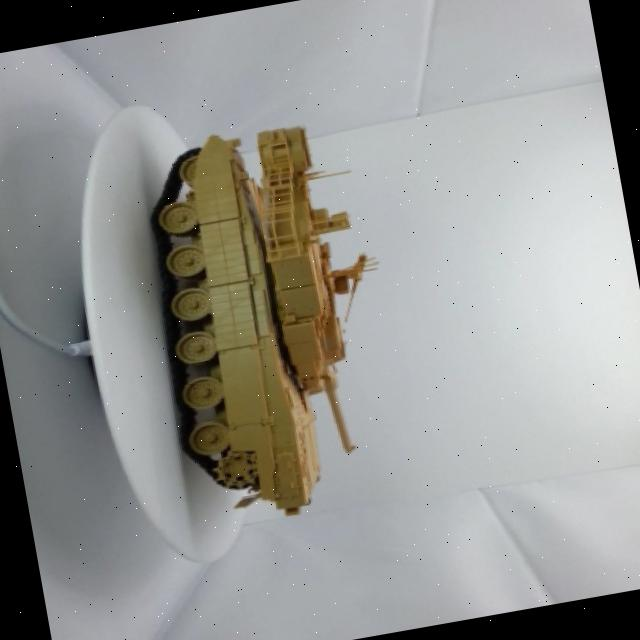korea tank: (109, 95, 431, 558)
